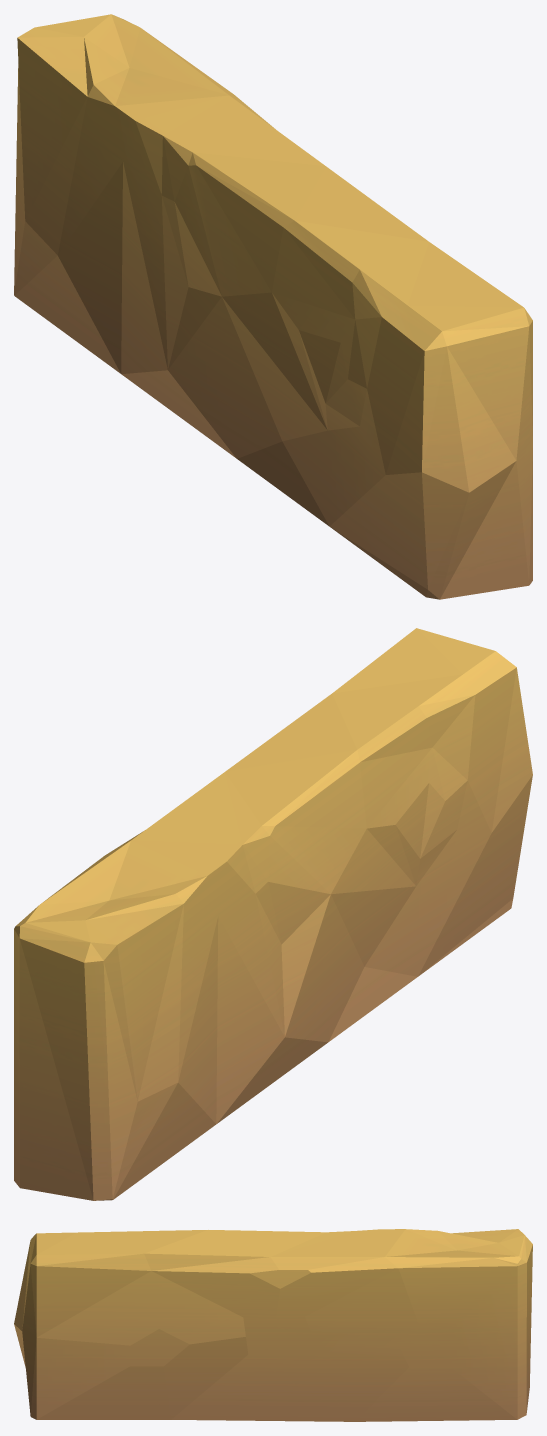
The picture shows the model from 3 angles, top to bottom: view 1: azimuth 30°, elevation 25°; view 2: azimuth 150°, elevation 25°; view 3: azimuth 270°, elevation 25°; orthographic projection. The views are drawn at different scales.
Parts seen in each view (by area): view 1: OldWall1; view 2: OldWall1; view 3: OldWall1.
Boxes of the visible parts, x1=… form: OldWall1: x1=14, y1=14, x2=532, y2=599; OldWall1: x1=14, y1=628, x2=532, y2=1200; OldWall1: x1=14, y1=1229, x2=532, y2=1421.
Size of the model in its own units: 1.13 by 2.31 by 6.66.
Materials: 1 (1 with a texture image).
